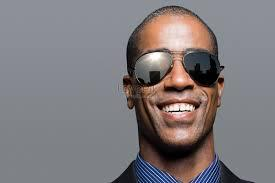sunglasses: (132, 44, 227, 92)
